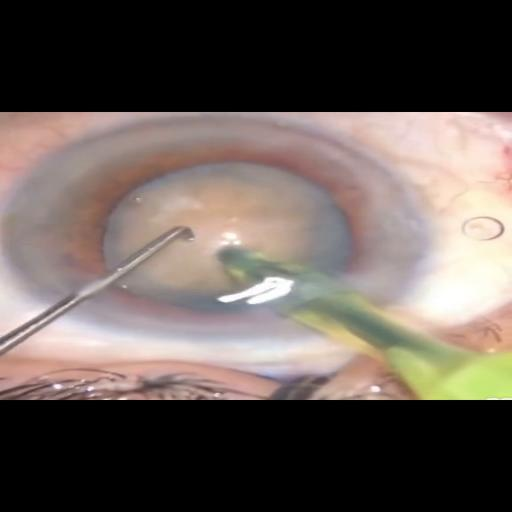catarata: (99, 158, 361, 322)
cornea: (0, 111, 436, 334)
pupil: (69, 145, 381, 328)
